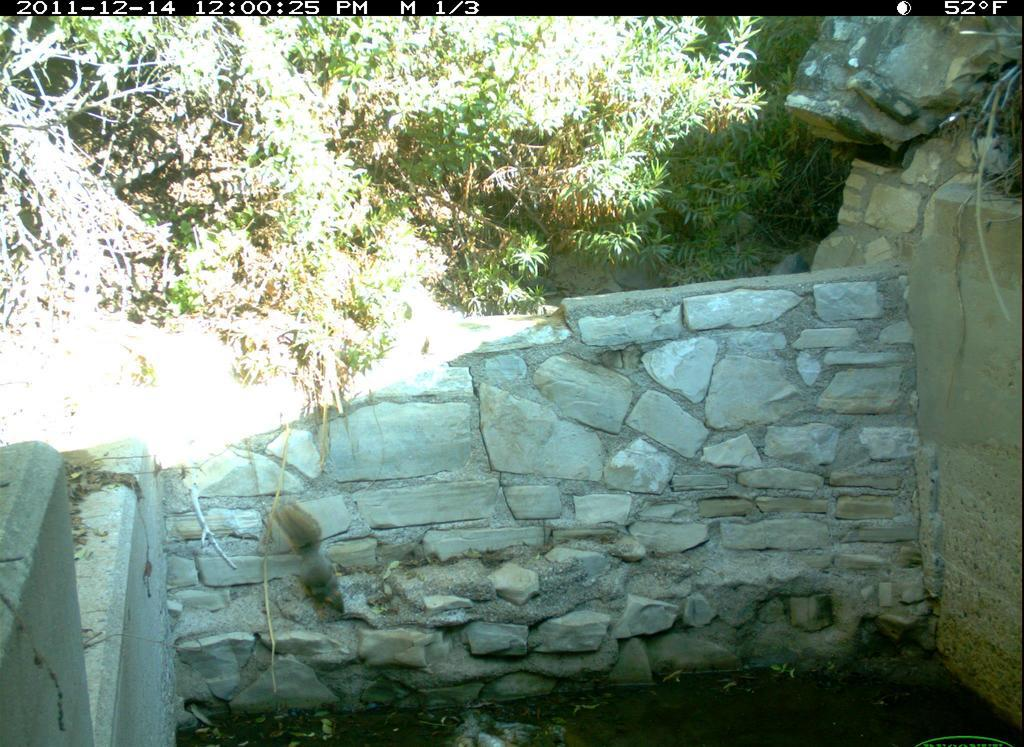squirrel: (268, 500, 356, 624)
